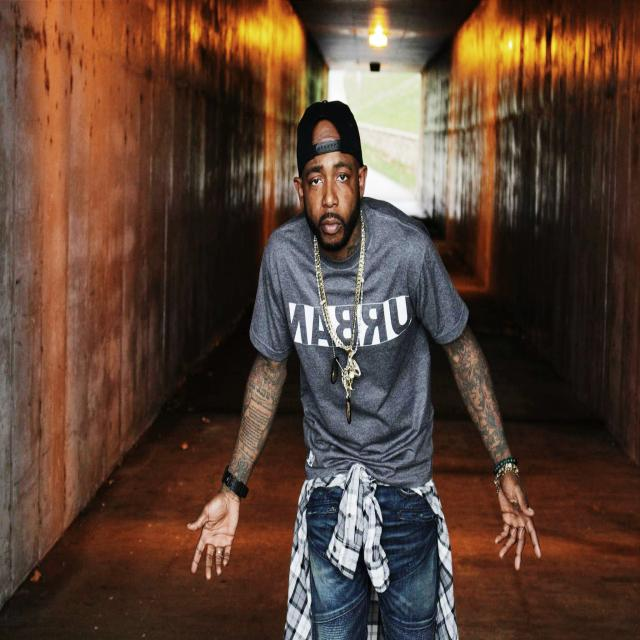adult: (185, 98, 543, 640)
